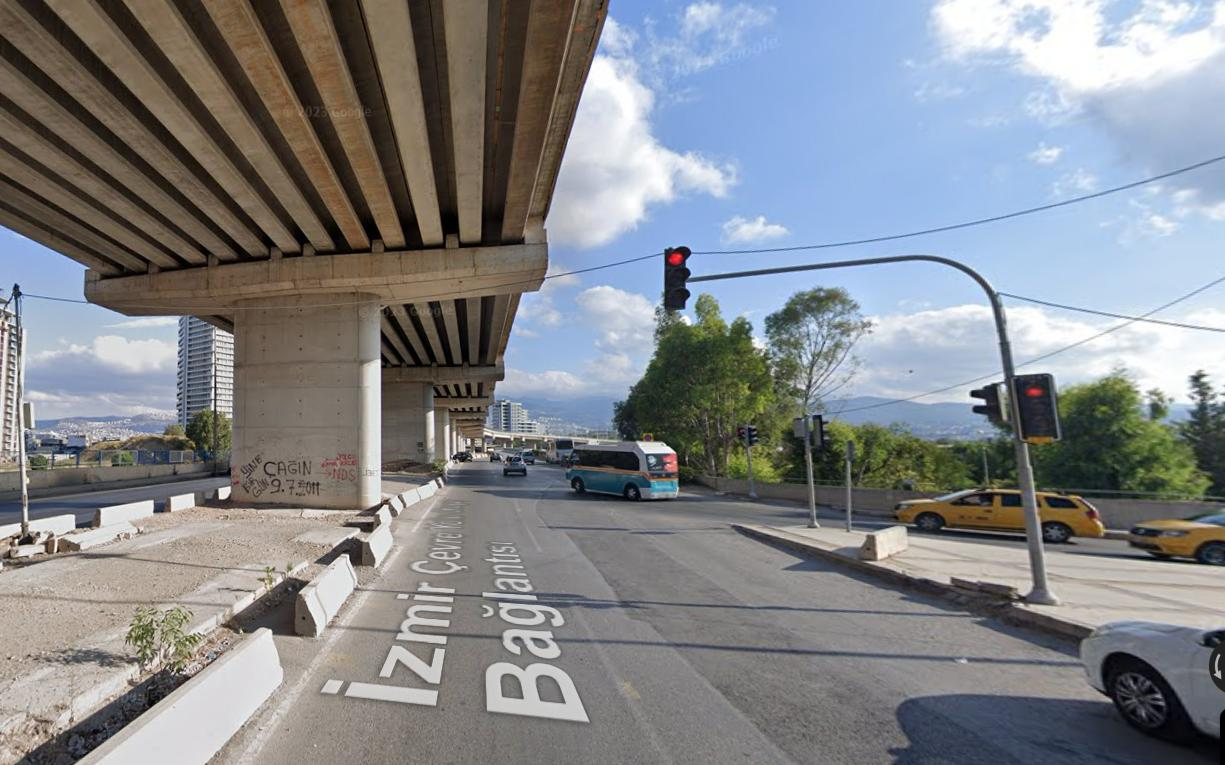redlight: (1016, 375, 1058, 437), (665, 248, 688, 307)
